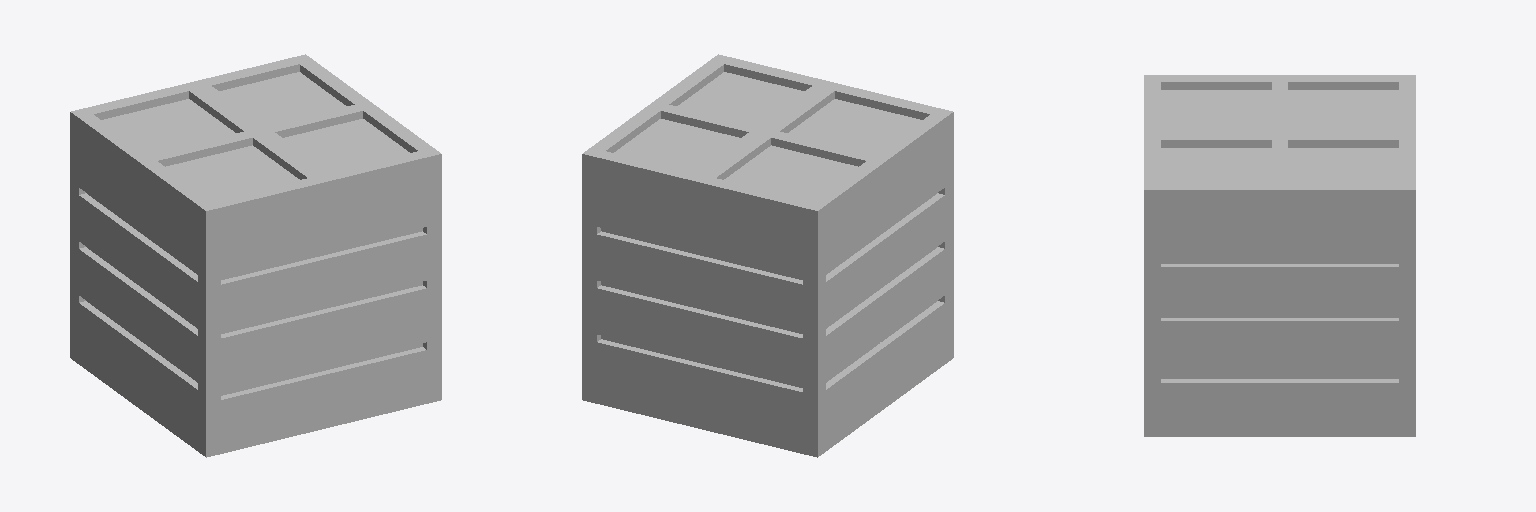
The model's file is caja.obj.
The picture shows the model from 3 angles: view 1: azimuth 30°, elevation 25°; view 2: azimuth 150°, elevation 25°; view 3: azimuth 270°, elevation 25°; orthographic projection.
Parts seen in each view (by area): view 1: object 1; view 2: object 1; view 3: object 1.
Part boxes in pixels (left/top/right/bottom): object 1: left=70, top=54, right=441, bottom=457; object 1: left=582, top=54, right=953, bottom=457; object 1: left=1144, top=75, right=1415, bottom=436.
Bounding box in the file's own units: 3.2 × 3.2 × 3.2.